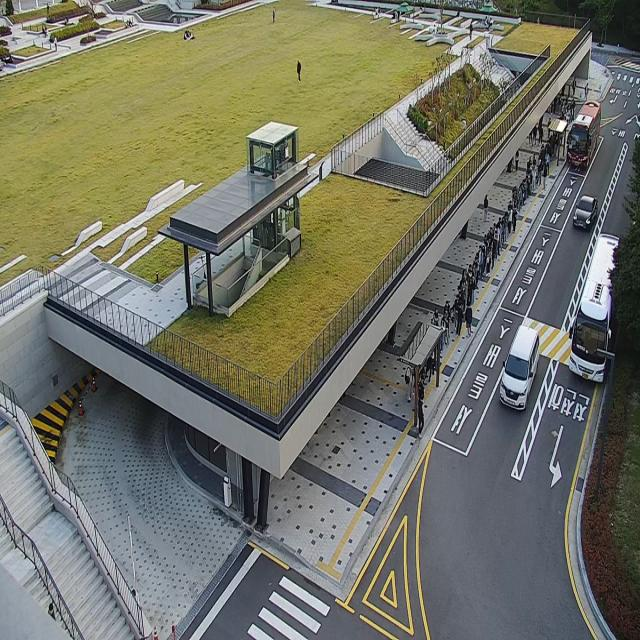queue: (416, 96, 576, 427)
